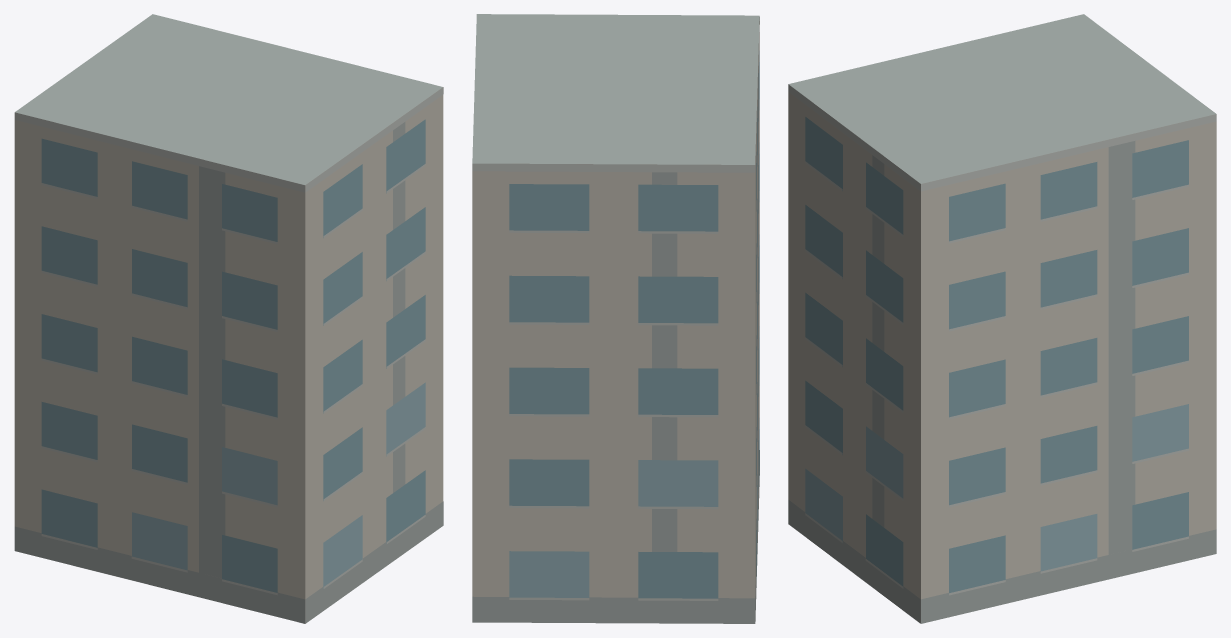
File: survey-upis-32713715.glb
The picture shows the model from 3 angles, left to right: view 1: azimuth 30°, elevation 25°; view 2: azimuth 150°, elevation 25°; view 3: azimuth 270°, elevation 25°; orthographic projection. The views are drawn at different scales.
Visible parts, largest first — view 1: survey-upis-32713715.tmp; view 2: survey-upis-32713715.tmp; view 3: survey-upis-32713715.tmp.
Boxes of the visible parts, left/top/right/bottom form: survey-upis-32713715.tmp: left=14, top=14, right=443, bottom=623; survey-upis-32713715.tmp: left=472, top=14, right=759, bottom=623; survey-upis-32713715.tmp: left=788, top=14, right=1216, bottom=623.
Size of the model in its own units: 11.86 by 14.3 by 12.63.
